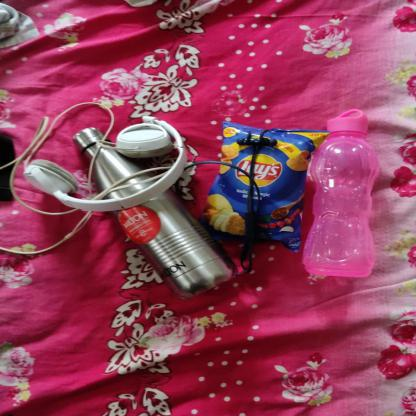indian_magic_masala: (203, 121, 328, 252)
